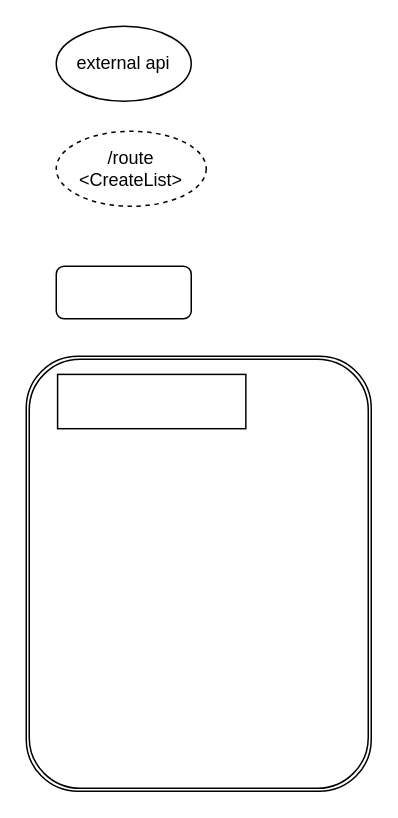
The diagram is 398 pixels wide and 818 high, and some of its shapes have lost their labels. Here are the shapes that lost their labels. From the top down, the centre of each, then its label:
At point (123, 292): "interactive element".
At point (151, 401): "<SmallerComponent>".
